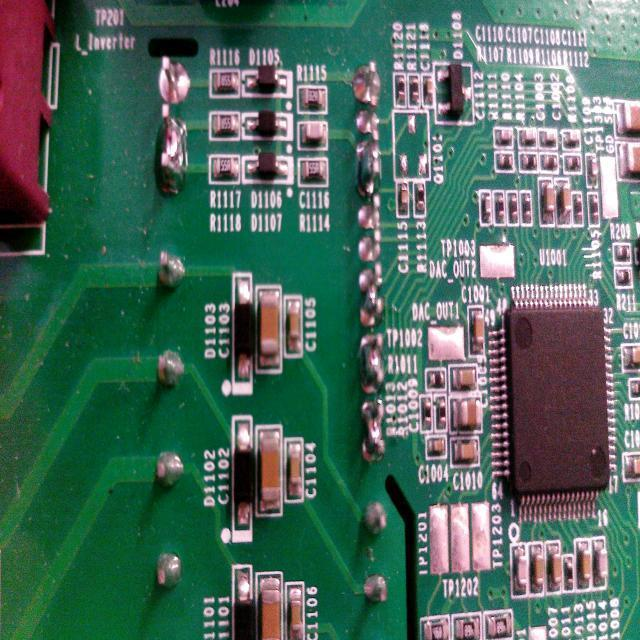Soldering shorted: (152, 100, 192, 202), (352, 256, 391, 332), (358, 396, 392, 467), (352, 334, 392, 394), (354, 128, 386, 198)
